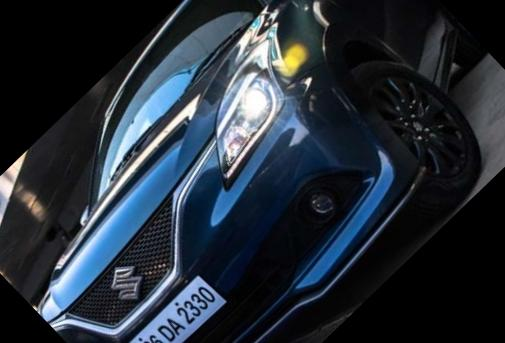plate: (112, 269, 233, 343)
